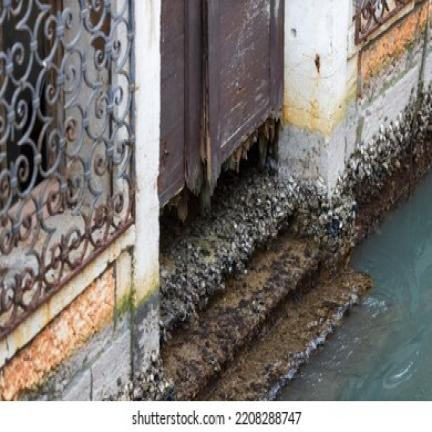karat: (0, 186, 139, 336)
